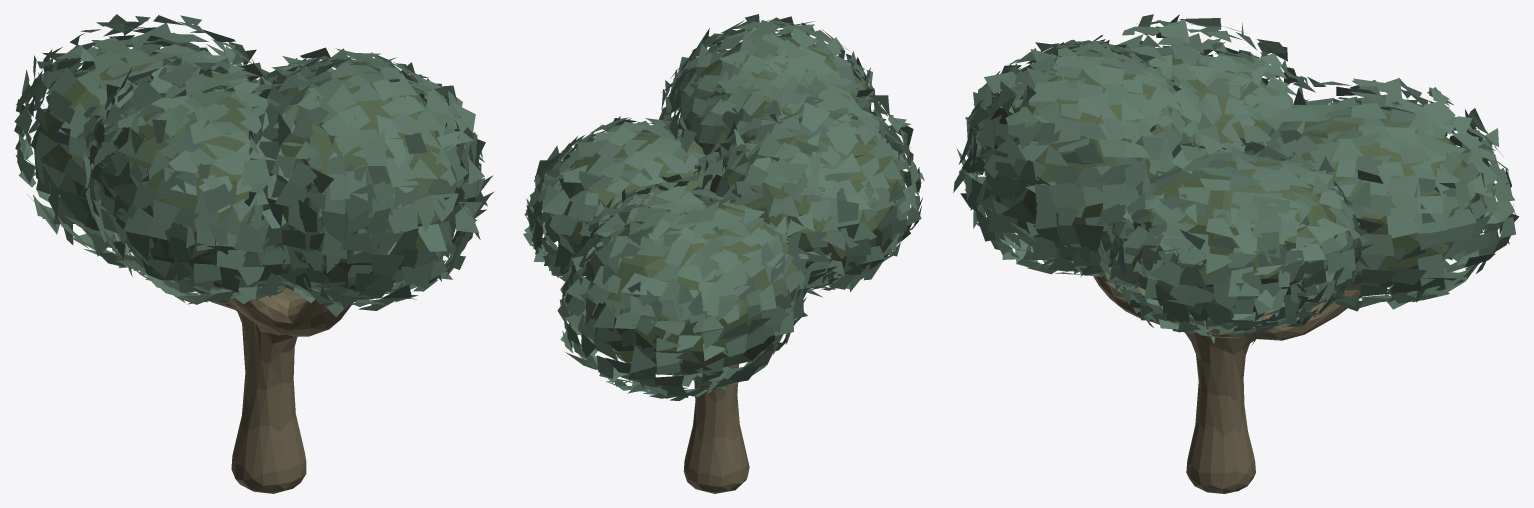
File: DruidEnviornment_Tree.fbx
The picture shows the model from 3 angles, left to right: view 1: azimuth 30°, elevation 25°; view 2: azimuth 150°, elevation 25°; view 3: azimuth 270°, elevation 25°; orthographic projection. The views are drawn at different scales.
Parts seen in each view (by area): view 1: OutterLeaves, InnerLeaves, Tree; view 2: OutterLeaves, InnerLeaves, Tree; view 3: OutterLeaves, InnerLeaves, Tree.
Boxes of the visible parts, x1,y1,x2,y2 form: OutterLeaves: (14, 14, 494, 316); InnerLeaves: (33, 55, 457, 291); Tree: (193, 286, 351, 493); OutterLeaves: (523, 14, 924, 400); InnerLeaves: (552, 36, 905, 375); Tree: (672, 364, 749, 493); OutterLeaves: (953, 14, 1519, 344); InnerLeaves: (985, 49, 1479, 312); Tree: (1093, 275, 1362, 493).
Size of the model in its own units: 1833 by 1370 by 1581.
Materials: 3 (3 with a texture image).
